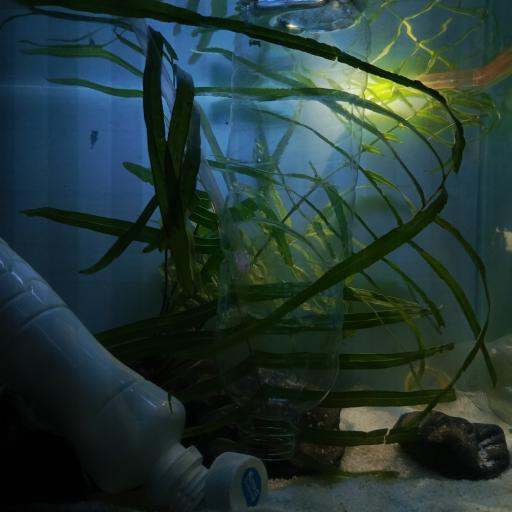bottle_cap: (213, 453, 270, 512)
plastic_bottle: (216, 0, 369, 458), (1, 236, 211, 512)
plastic_straw: (131, 15, 253, 309), (419, 48, 512, 86)
